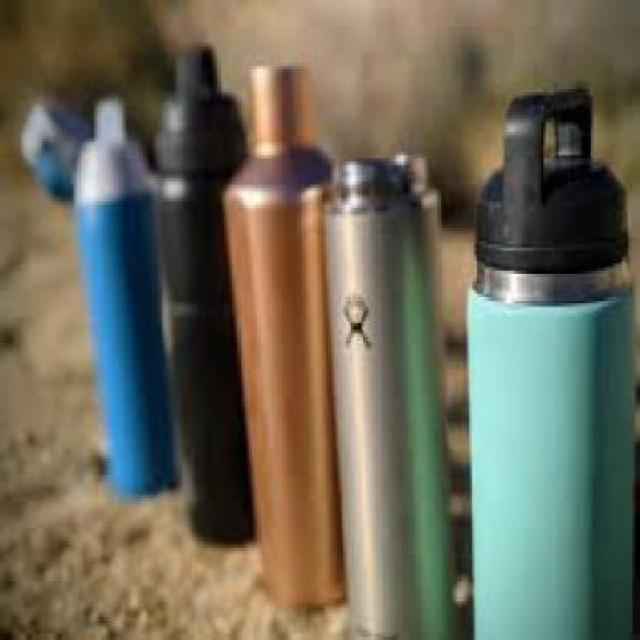Drinking: (454, 79, 628, 636), (322, 125, 472, 637)
